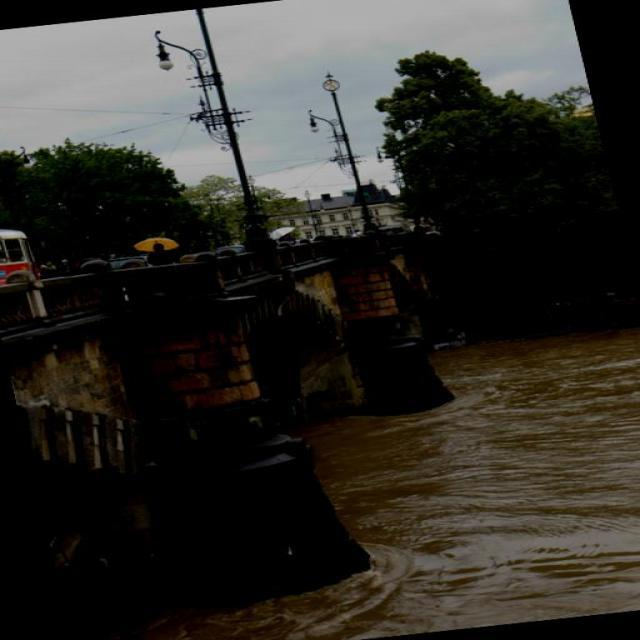flood: (289, 319, 639, 640)
